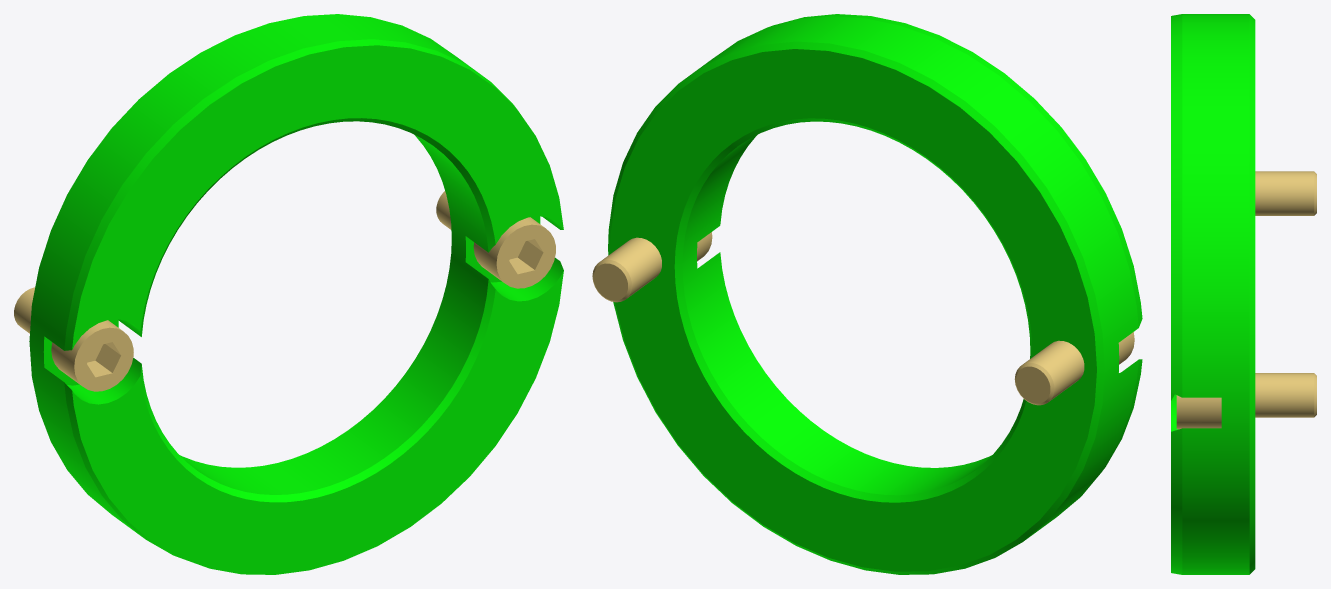
The model's file is locating_ring.glb.
The picture shows the model from 3 angles, left to right: view 1: azimuth 30°, elevation 25°; view 2: azimuth 150°, elevation 25°; view 3: azimuth 270°, elevation 25°; orthographic projection. The views are drawn at different scales.
Visible parts, largest first — view 1: Button_locating_ring_051, Button_shcs_048 (×2); view 2: Button_locating_ring_051, Button_shcs_048 (×2); view 3: Button_locating_ring_051, Button_shcs_048 (×2).
Boxes of the visible parts, bbox=[...] form: Button_locating_ring_051: bbox=[29, 14, 563, 574]; Button_shcs_048 (×2): bbox=[14, 191, 555, 391]; Button_locating_ring_051: bbox=[608, 14, 1142, 574]; Button_shcs_048 (×2): bbox=[592, 232, 1134, 405]; Button_locating_ring_051: bbox=[1171, 14, 1255, 574]; Button_shcs_048 (×2): bbox=[1176, 171, 1316, 429].
Bounding box in the file's own units: 0.1 × 0.0999 × 0.026.
